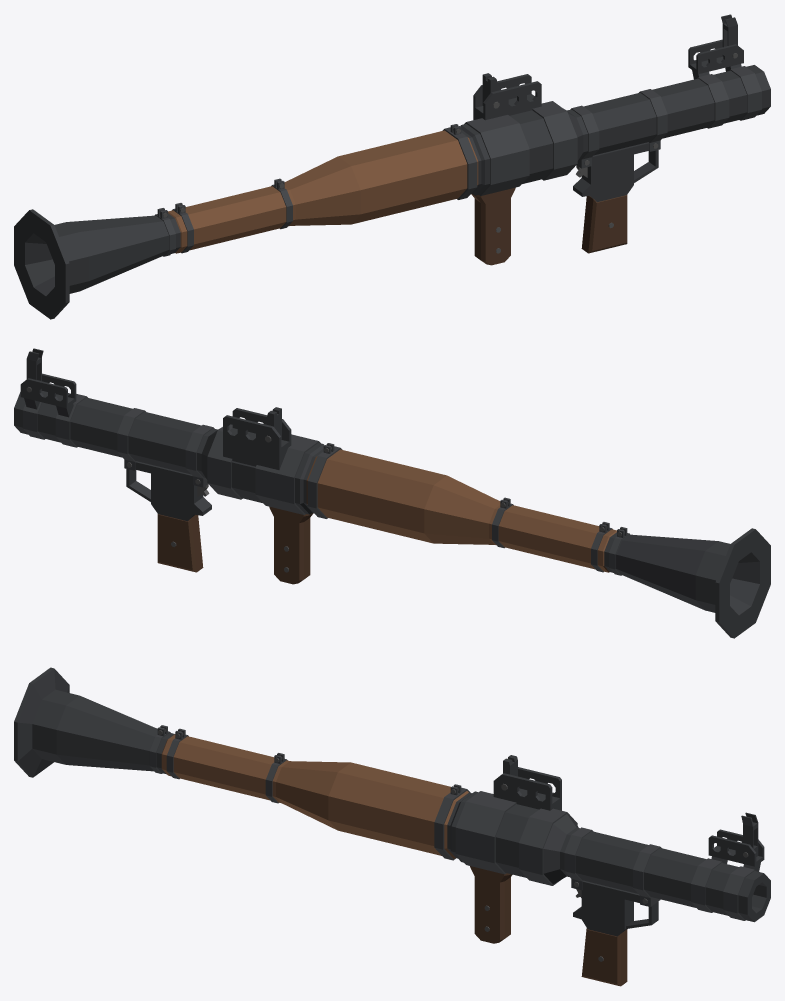
Rendered from SM_HeavyWeapon2_01.glb.
3 views of the same model, one above another, from view 1: azimuth 30°, elevation 25°; view 2: azimuth 150°, elevation 25°; view 3: azimuth 330°, elevation 25° (orthographic).
Visible parts, largest first — view 1: SM_HeavyWeapon2_01; view 2: SM_HeavyWeapon2_01; view 3: SM_HeavyWeapon2_01.
Part boxes in pixels (box(x1,y1,x2,y2)): SM_HeavyWeapon2_01: box(14, 14, 770, 319); SM_HeavyWeapon2_01: box(14, 348, 770, 638); SM_HeavyWeapon2_01: box(14, 667, 770, 986).
Size of the model in its own units: 1.09 by 0.2731 by 0.1355.
Materials: 1 (1 with a texture image).
